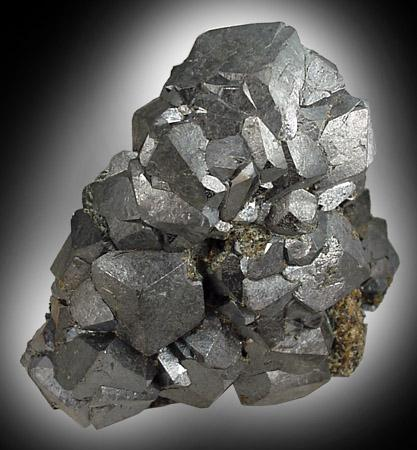magnetite: (22, 22, 399, 430), (21, 23, 393, 430)
